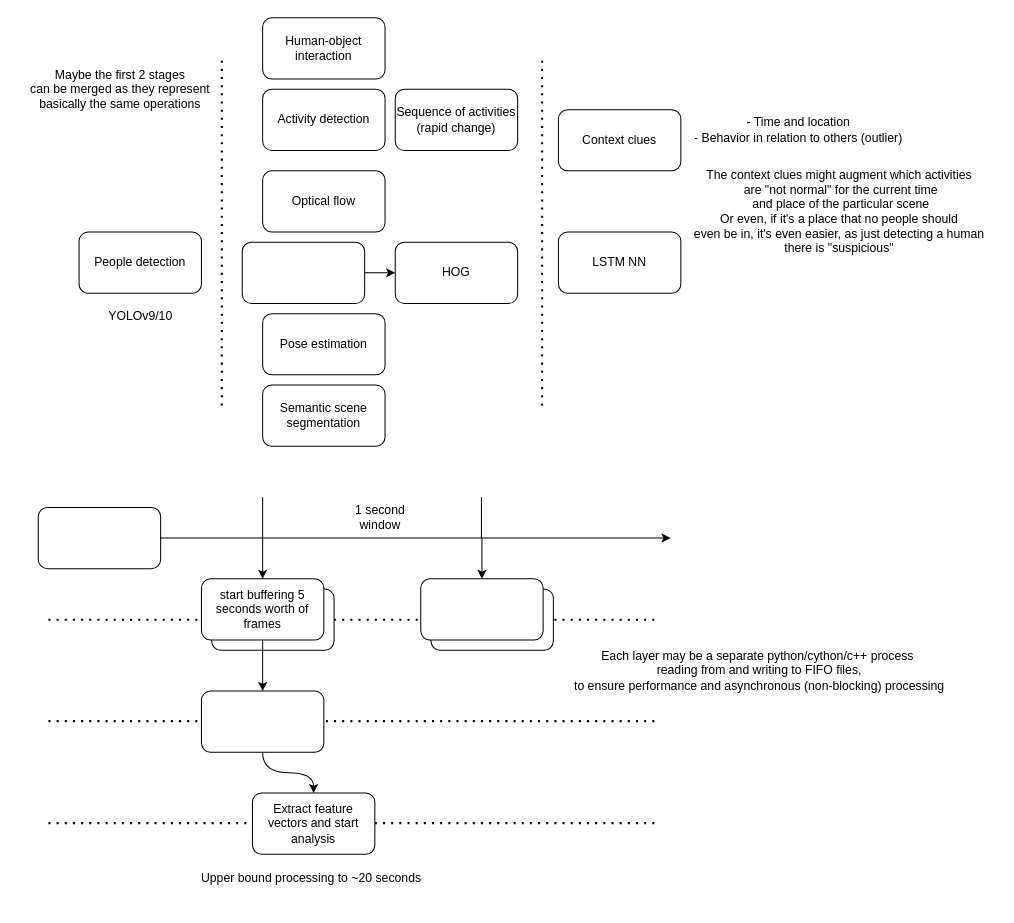
The diagram is 1014 pixels wide and 923 high, and some of its shapes have lost their labels. The centre of each missing label's shape, as x and y in pixels:
"read video data from network conn" belongs at [99,537].
"Run feature extraction in parallel to buffering" belongs at [262,721].
"start buffering" belongs at [481,609].
"Temporal difference" belongs at [303,272].
